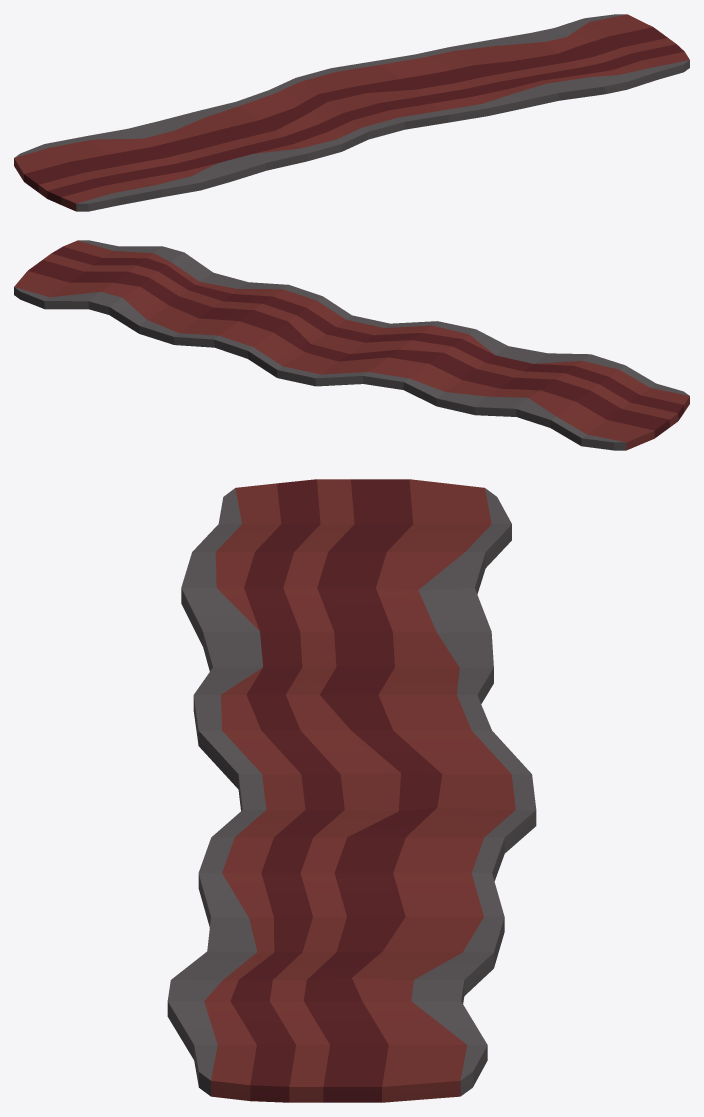
The model's file is pq_lard.glb.
The picture shows the model from 3 angles, top to bottom: view 1: azimuth 30°, elevation 25°; view 2: azimuth 150°, elevation 25°; view 3: azimuth 270°, elevation 25°; orthographic projection. The views are drawn at different scales.
Parts seen in each view (by area): view 1: Bacon_Uncooked; view 2: Bacon_Uncooked; view 3: Bacon_Uncooked.
Part boxes in pixels (<box>): Bacon_Uncooked: <box>14,14,689,211</box>; Bacon_Uncooked: <box>14,240,689,450</box>; Bacon_Uncooked: <box>167,479,536,1102</box>.
Size of the model in its own units: 0.1968 by 0.00362 by 0.0504.
